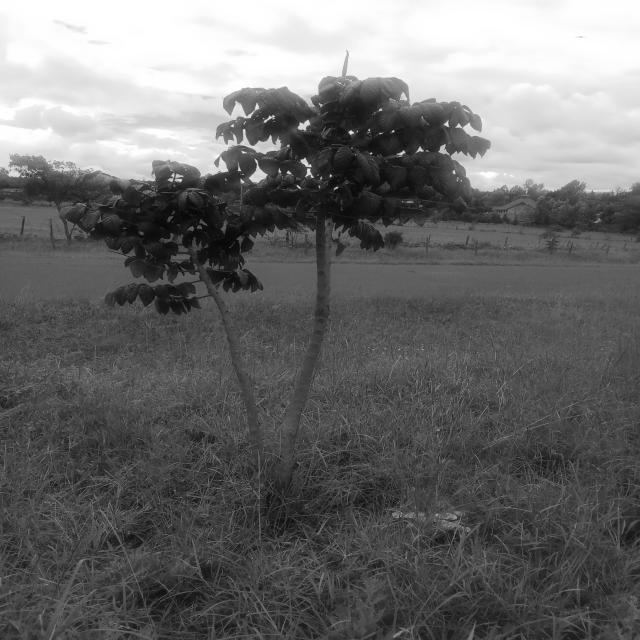Polyscias Kikuyensis: (62, 68, 492, 510)
